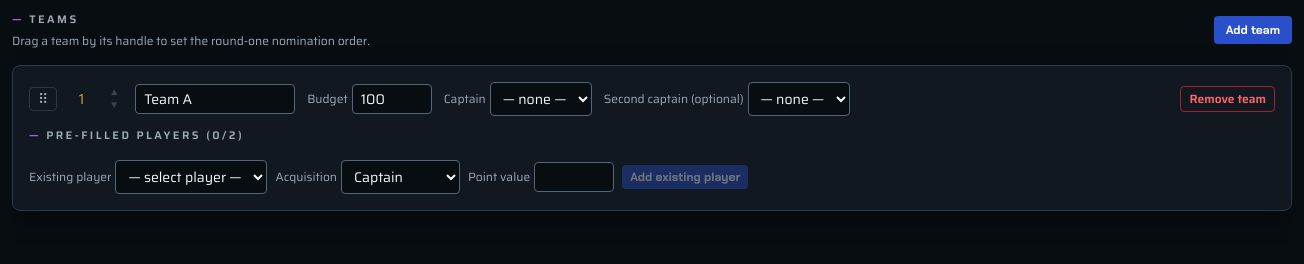
Test: TeamEditor › retains the existing-player selection, acquisition, and price when the RPC fails
The width and height of the screenshot is (1304, 264).
Select "Mid One · mid" in the dropdown labelled "Existing player". click: point(192, 177)
box: 116,160 -> 268,194
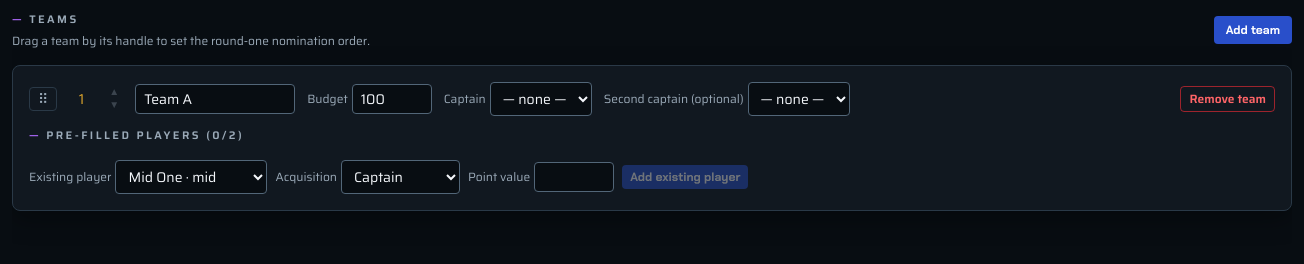
Select "Free Agency" in the dropdown labelled "Acquisition". click: point(400, 177)
box: 341,160 -> 460,194
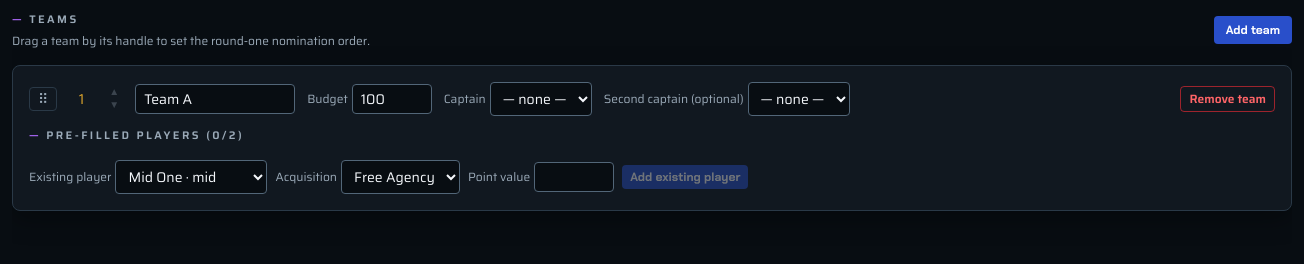
Type "12" into the number field labelled "Point value". click: point(574, 177)
box: 534,162 -> 614,192
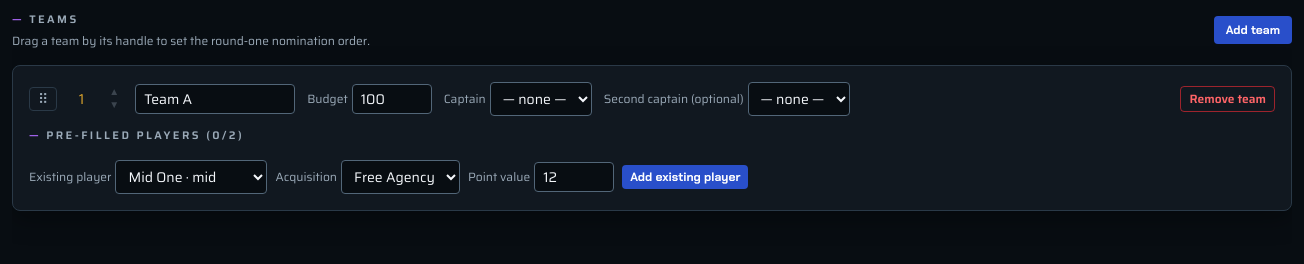
Click the button "Add existing player". click: point(685, 177)
box: 622,165 -> 748,189
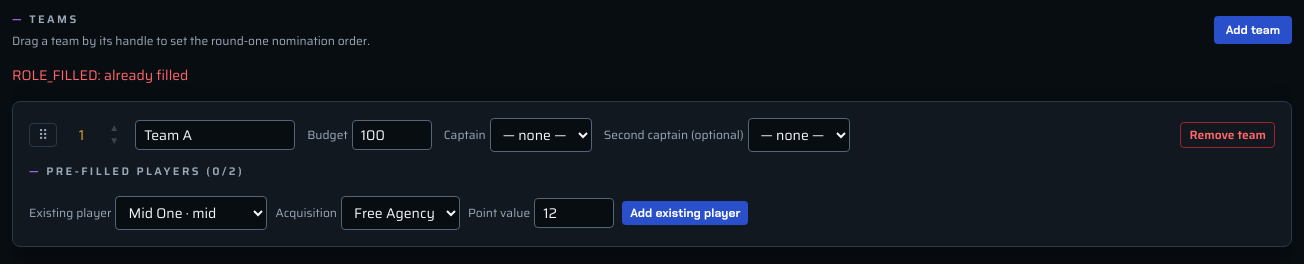
expect the text "ROLE_FILLED: already filled" is shown: met, box 12,64 -> 188,86
